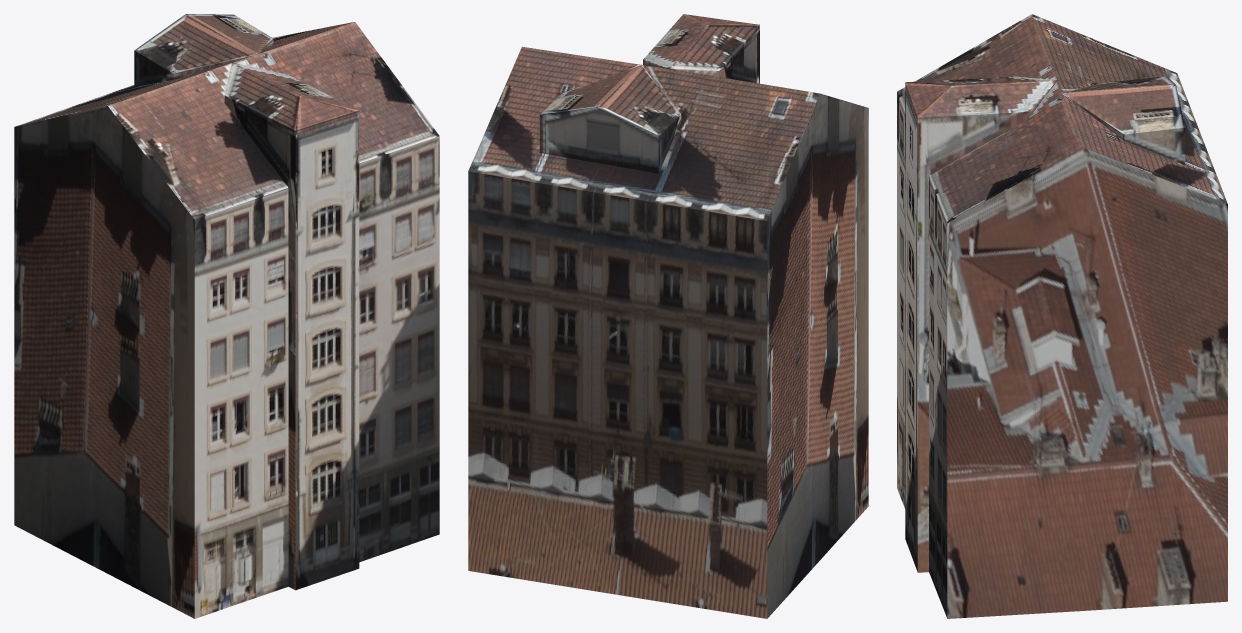
The picture shows the model from 3 angles, left to right: view 1: azimuth 30°, elevation 25°; view 2: azimuth 150°, elevation 25°; view 3: azimuth 270°, elevation 25°; orthographic projection.
Parts seen in each view (by area): view 1: Z_UP; view 2: Z_UP; view 3: Z_UP.
Boxes of the visible parts, x1=… form: Z_UP: x1=14, y1=14, x2=439, y2=618; Z_UP: x1=468, y1=14, x2=868, y2=618; Z_UP: x1=897, y1=14, x2=1227, y2=618.
Size of the model in its own units: 18.7 by 27.13 by 17.42.
2 materials, 1 textured.
